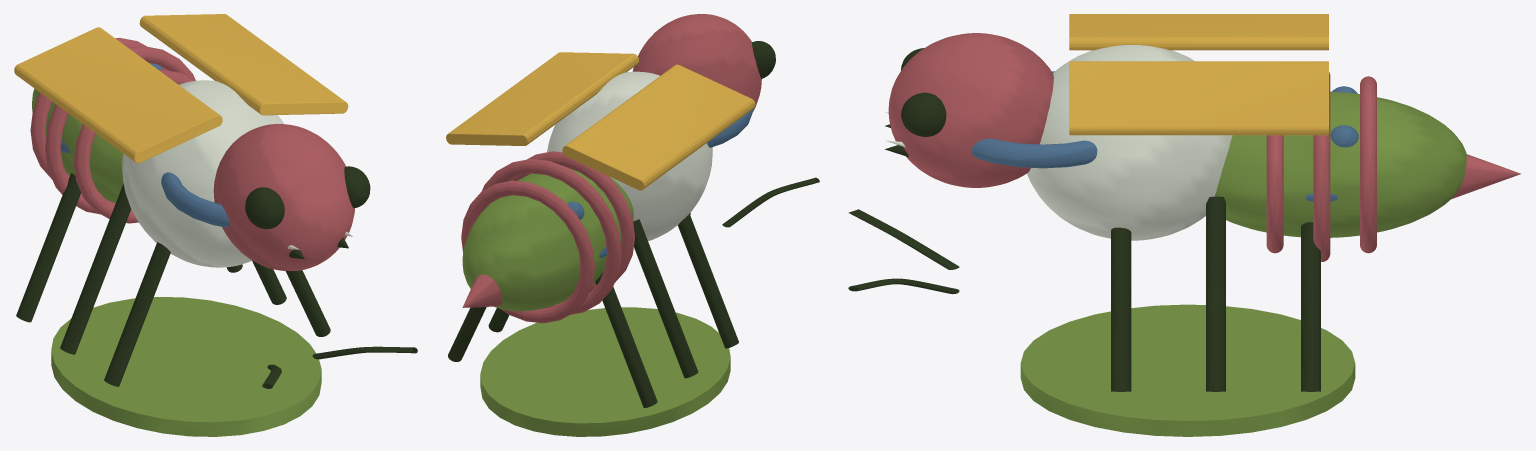
Rendered from 0018_昆虫图鉴_卷叶象.glb.
3 renders of one model, left to right at view 1: azimuth 30°, elevation 25°; view 2: azimuth 150°, elevation 25°; view 3: azimuth 270°, elevation 25°, orthographic. The views are drawn at different scales.
Visible parts, largest first — view 1: card_0018; view 2: card_0018; view 3: card_0018.
Boxes of the visible parts, x1,y1,x2,y2 form: card_0018: [14, 14, 417, 436]; card_0018: [446, 14, 819, 436]; card_0018: [848, 14, 1520, 436].
Size of the model in its own units: 0.7435 by 1 by 1.8.
